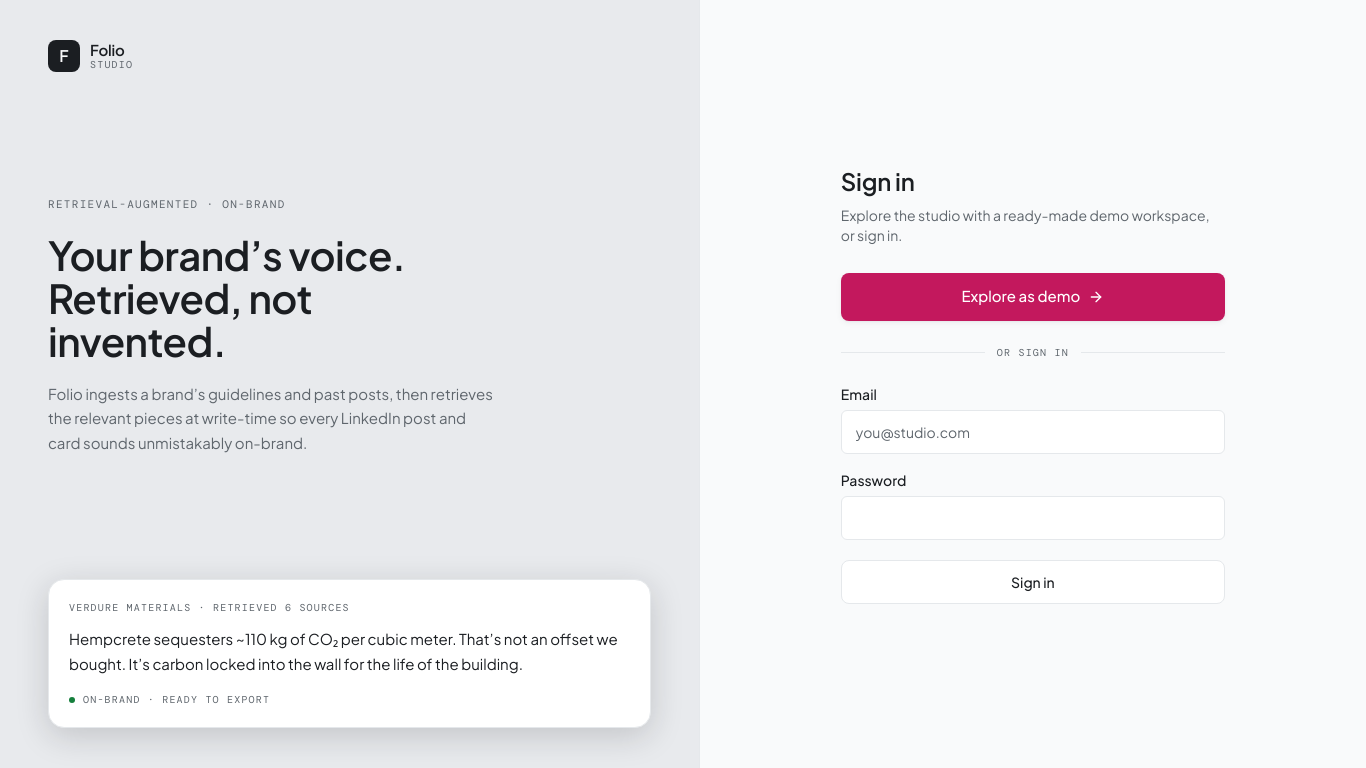
Scenario: auth flow › a failed /auth/me leaves the visitor signed out
The width and height of the screenshot is (1366, 768).
Click the button "Explore as demo". click: (1033, 296)
box: x1=841 y1=272 x2=1225 y2=320
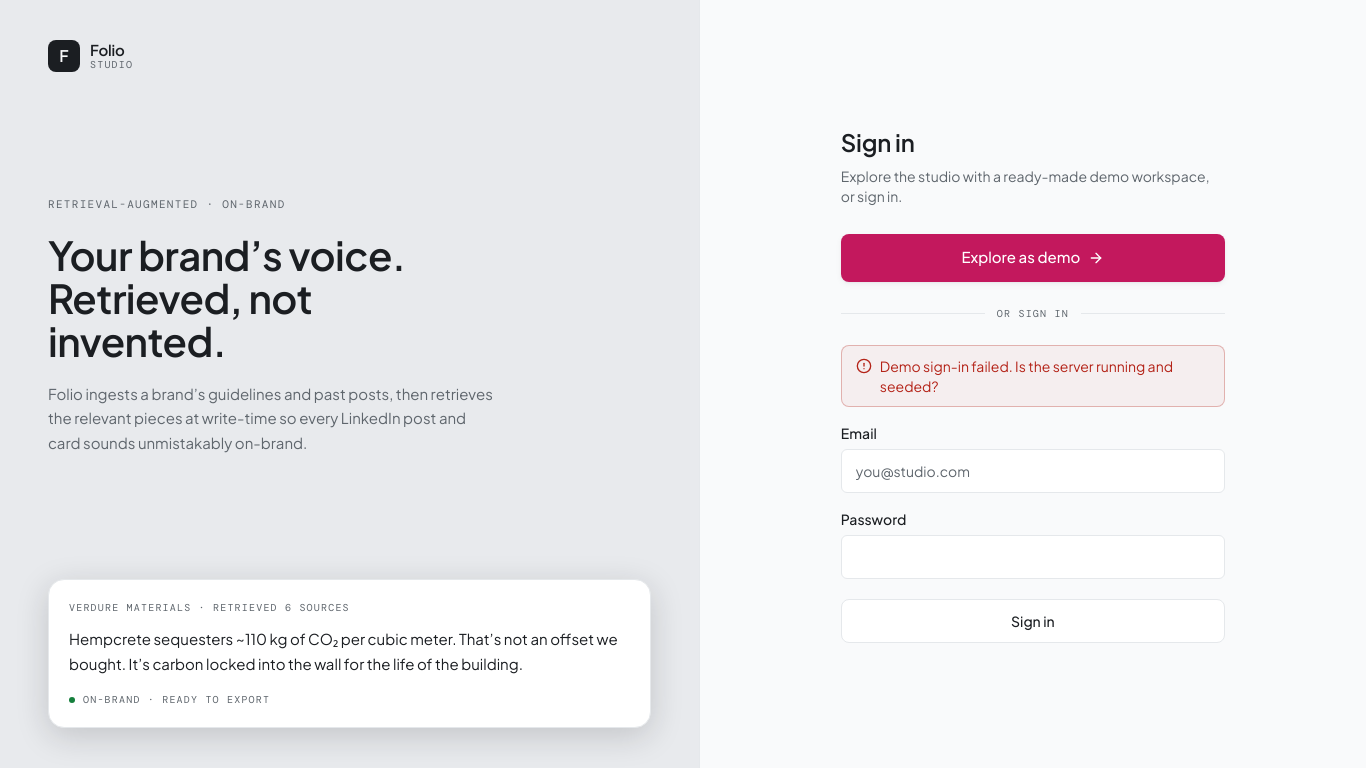
Expected: the message "Demo sign-in failed. Is the server running and seeded?" is shown, x1=841 y1=344 x2=1225 y2=406
